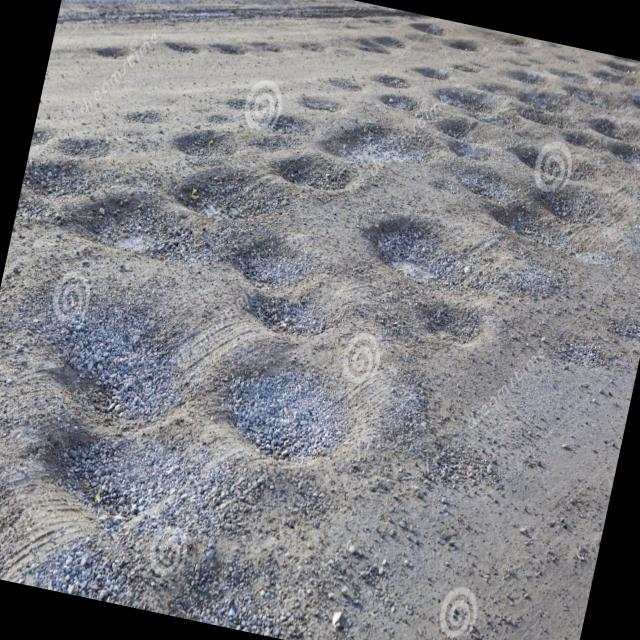Potholes: (0, 297, 206, 556), (81, 0, 456, 139), (195, 330, 412, 508), (330, 180, 526, 376), (202, 218, 352, 362), (49, 180, 215, 292), (254, 124, 363, 226), (506, 110, 615, 199), (166, 100, 250, 179), (324, 103, 409, 172), (557, 104, 640, 167), (519, 107, 589, 157), (438, 75, 488, 114)
